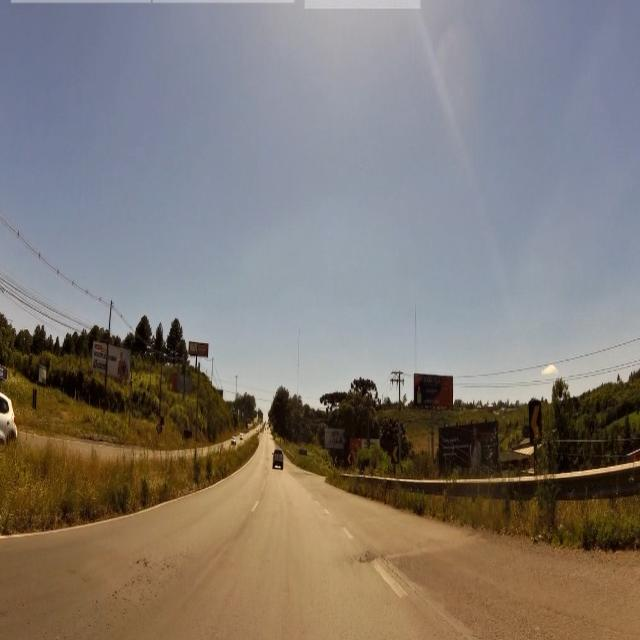Del: (527, 402, 544, 440)
